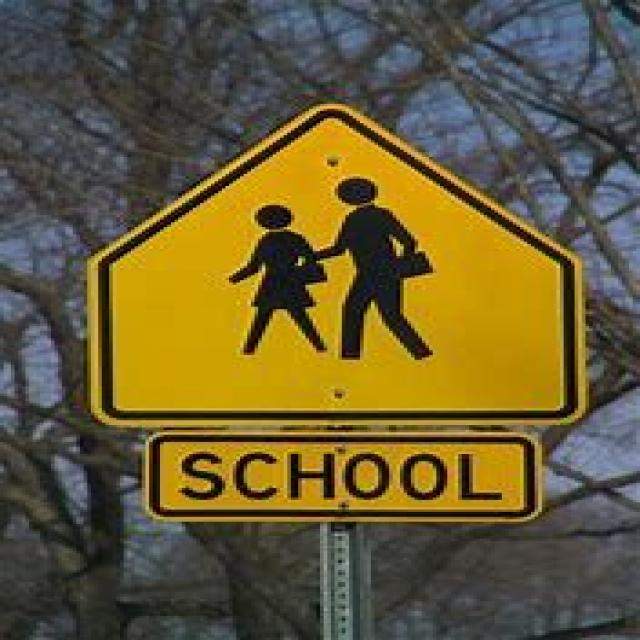SCHOOL_AHEAD: (80, 99, 585, 427)
